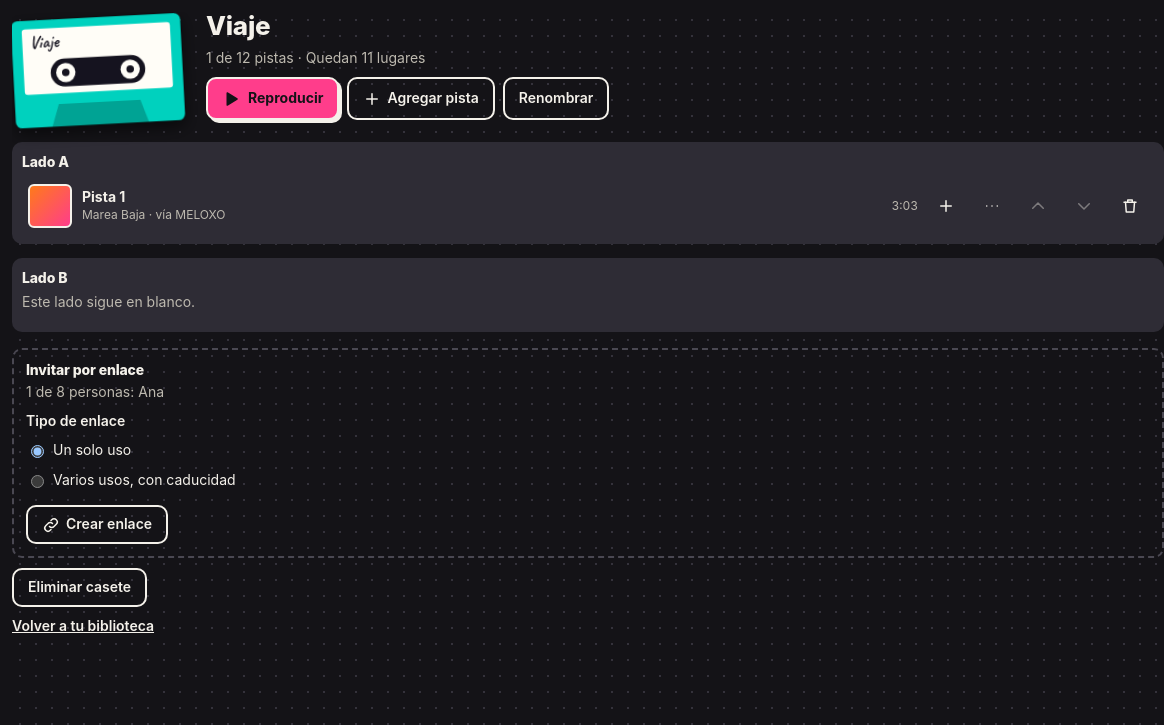
Test case: 409 al agregar explica que el casete se llenó y recarga
This screenshot has width=1164, height=725.
Click the button "Agregar pista": {"x": 421, "y": 99} left=347, top=78, right=495, bottom=120
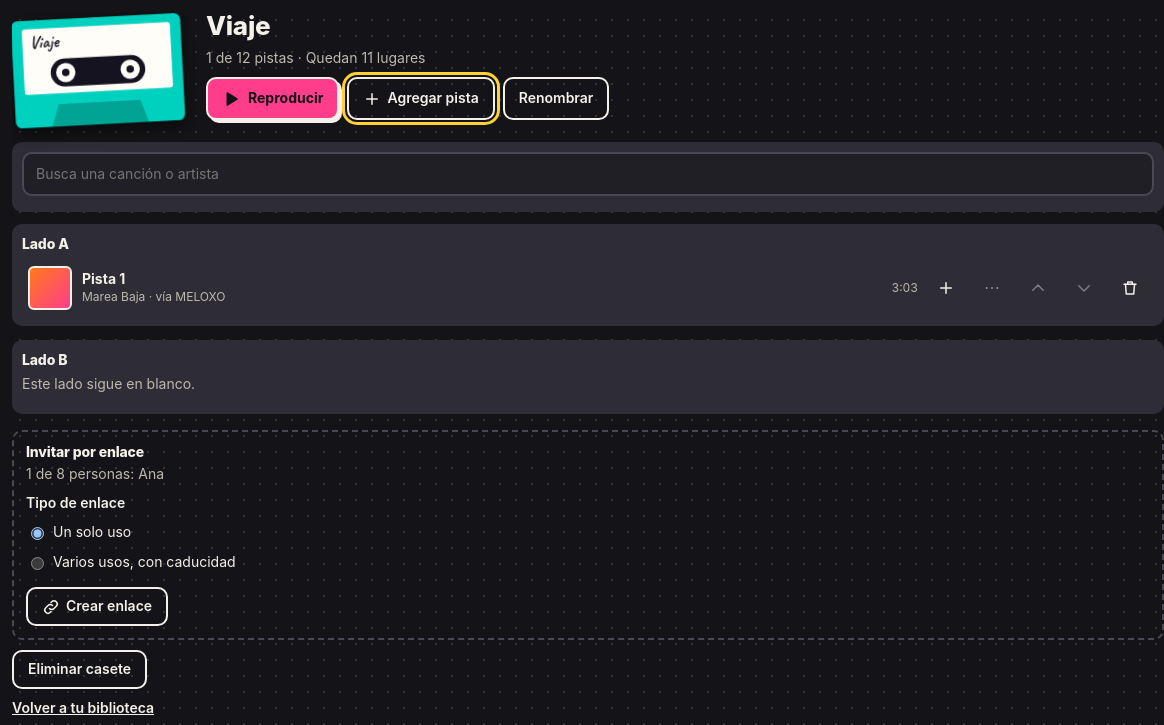
In the search field named "Buscar pista para el casete": {"x": 588, "y": 174} left=22, top=152, right=1154, bottom=196, type "nu"
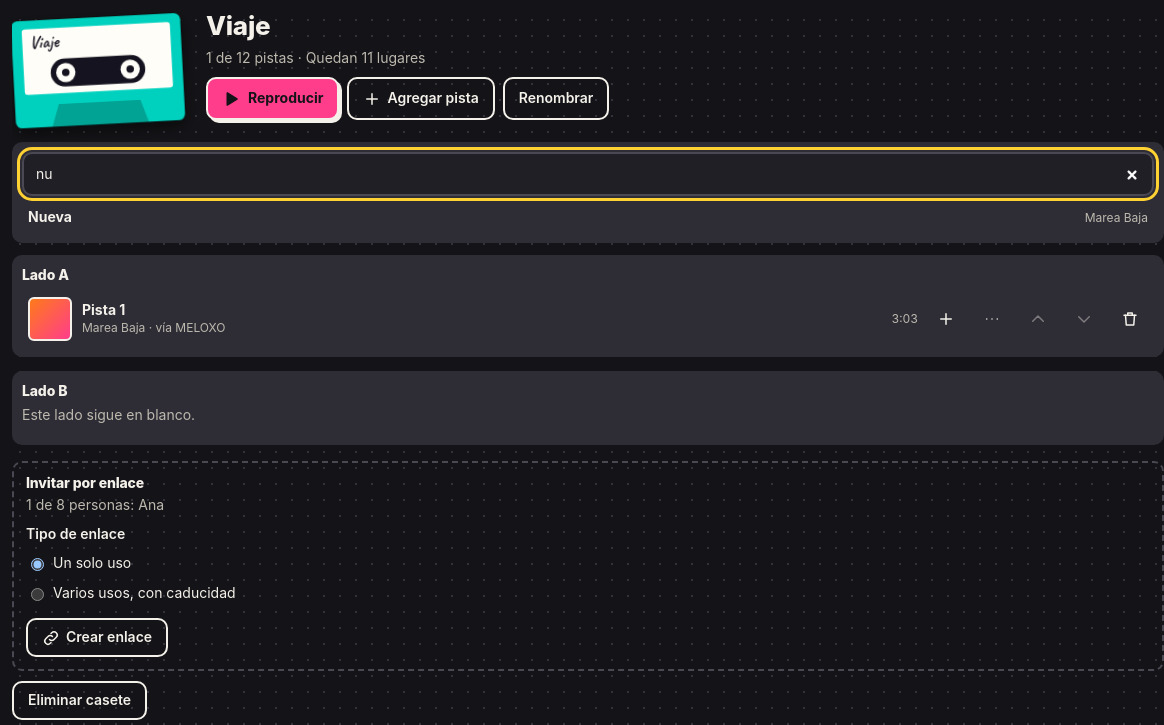
Click the button with aria-label "Elegir Nueva": {"x": 50, "y": 217} left=22, top=202, right=1154, bottom=233
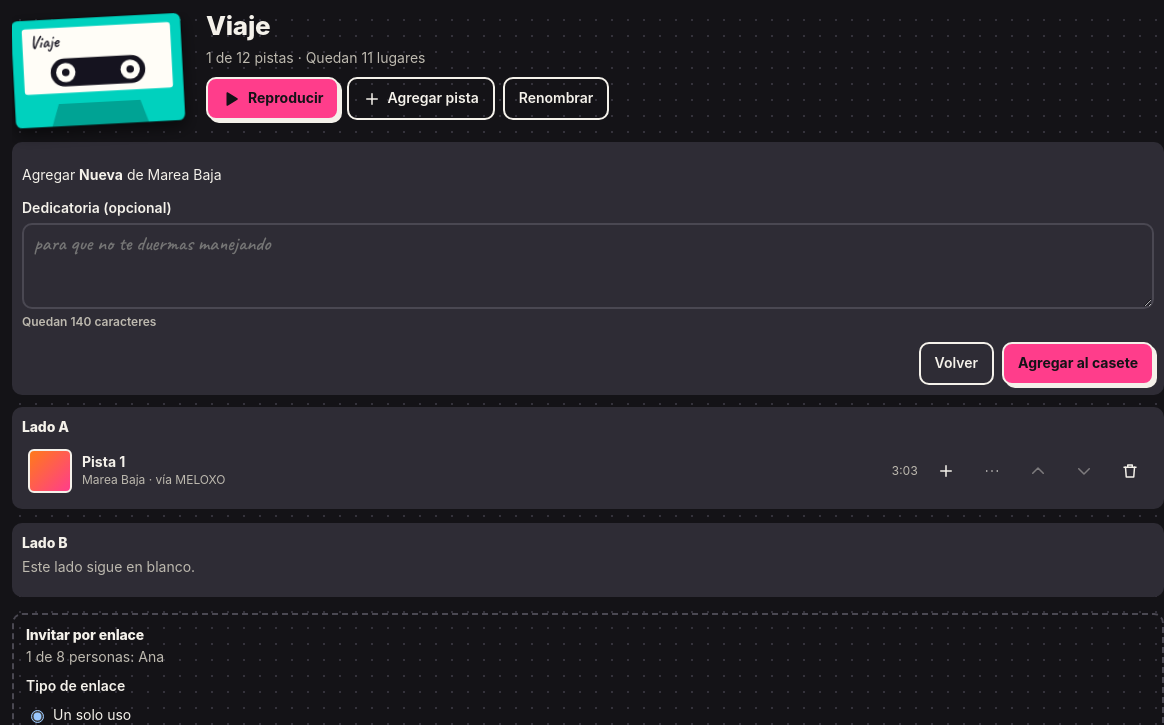
Click the button "Agregar al casete": {"x": 1078, "y": 364} left=1002, top=342, right=1154, bottom=385
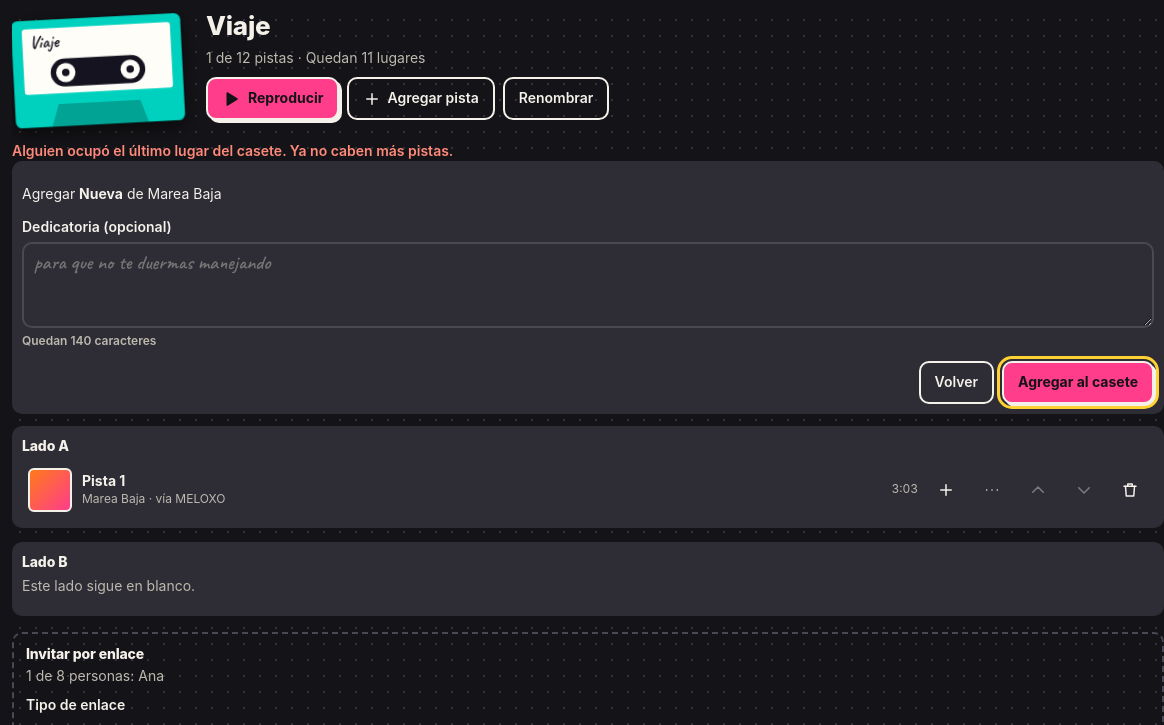
Check: the message shows "Alguien ocupó el último lugar", box left=12, top=142, right=453, bottom=159
